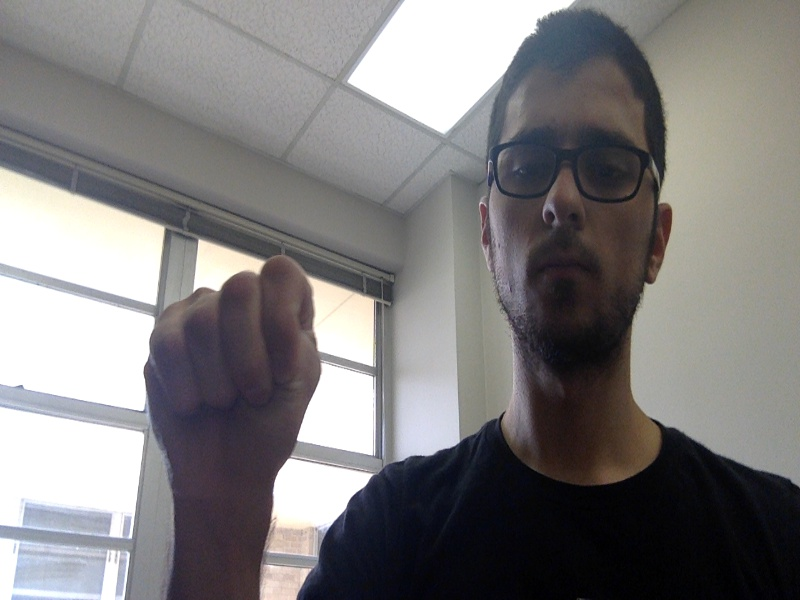0-hand: (147, 257, 320, 487)
